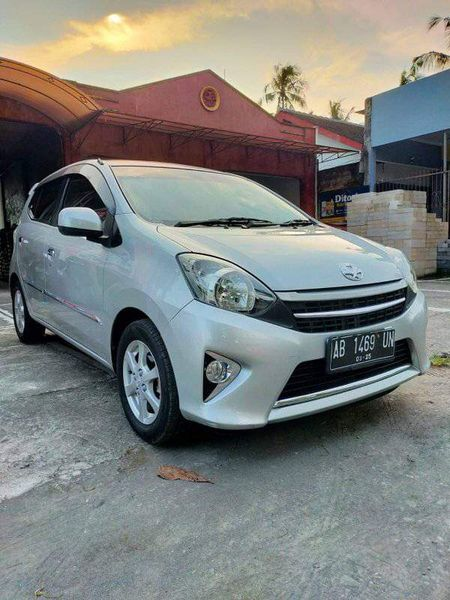plate: (323, 324, 401, 369)
